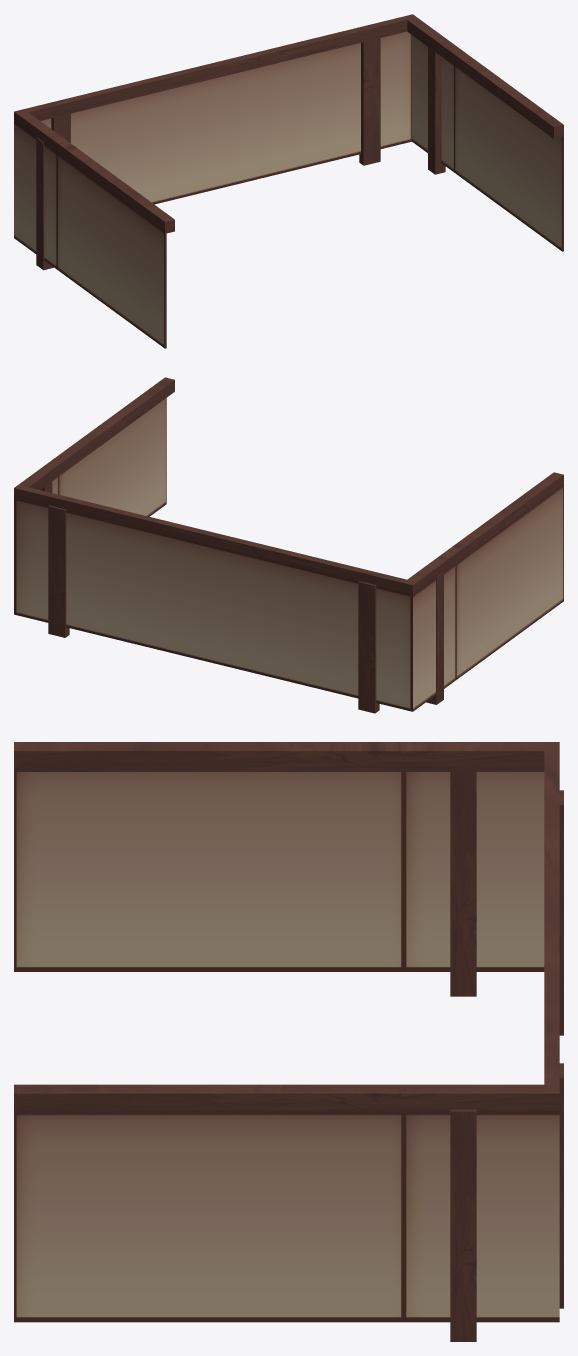
File: Ninja_wall_2.FBX
3 views of the same model, one above another, from view 1: azimuth 30°, elevation 25°; view 2: azimuth 150°, elevation 25°; view 3: azimuth 270°, elevation 25° (orthographic). The views are drawn at different scales.
Visible parts, largest first — view 1: C-Ext009, C-Ext010, Box056, Box010, Box011; view 2: C-Ext009, C-Ext010, Box019, Box056, Box011; view 3: C-Ext009, C-Ext010, Box010, Box011, Box019, Box056.
Part boxes in pixels (left/top/right/bottom): C-Ext009: left=14, top=31, right=563, bottom=348; C-Ext010: left=14, top=14, right=563, bottom=233; Box056: left=359, top=38, right=380, bottom=165; Box010: left=428, top=47, right=445, bottom=174; Box011: left=36, top=137, right=53, bottom=270; C-Ext009: left=14, top=398, right=563, bottom=711; C-Ext010: left=14, top=377, right=563, bottom=596; Box019: left=358, top=581, right=379, bottom=713; Box056: left=48, top=505, right=69, bottom=637; Box011: left=426, top=572, right=443, bottom=704; C-Ext009: left=14, top=772, right=559, bottom=1322; C-Ext010: left=14, top=742, right=559, bottom=1114; Box010: left=450, top=1109, right=476, bottom=1341; Box011: left=450, top=772, right=476, bottom=996; Box019: left=559, top=790, right=563, bottom=1035; Box056: left=559, top=1063, right=563, bottom=1308.
Bounding box in the file's own units: 1075 × 349 × 705.
2 materials, 2 textured.
